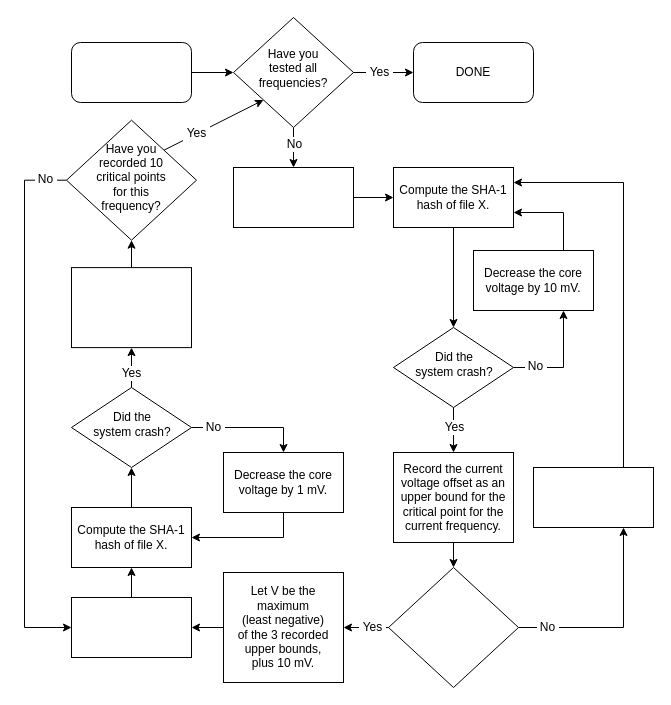
This 671x705 diagram has some shape labels left out. Here are the shapes that lost their labels. From the top down, the centre of each, then its label:
point 131,72: Generate some random data and save it to file X.
point 293,197: Use the lowest frequency not yet tested.
point 131,307: Record the current voltage offset as a critical point for the current frequency.
point 593,497: Reset the core voltage offset to zero.
point 131,627: Set the core voltage offset to V.
point 453,627: Have you recorded 3 upper bounds for this frequency?
